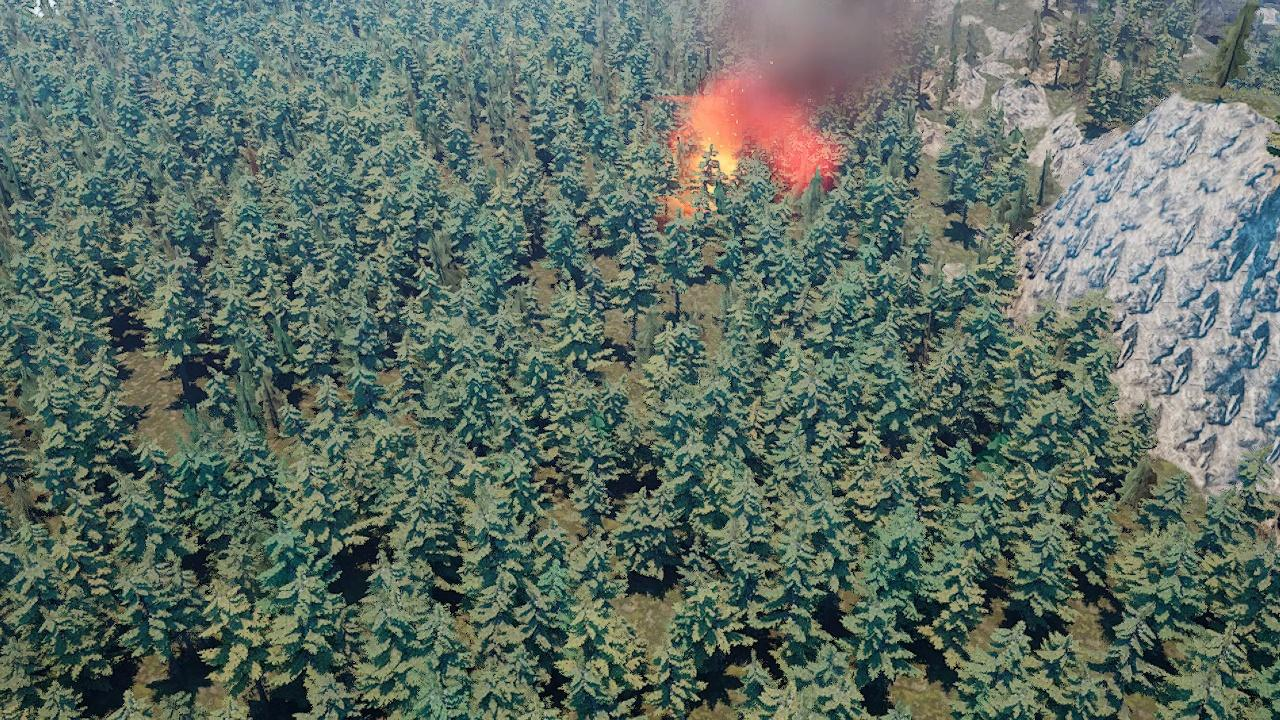fire: (664, 92, 747, 222)
smoke: (691, 0, 962, 183)
